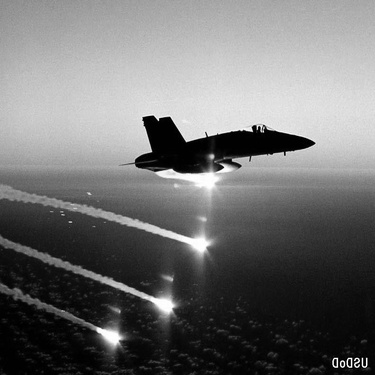airplane: (97, 96, 324, 183)
